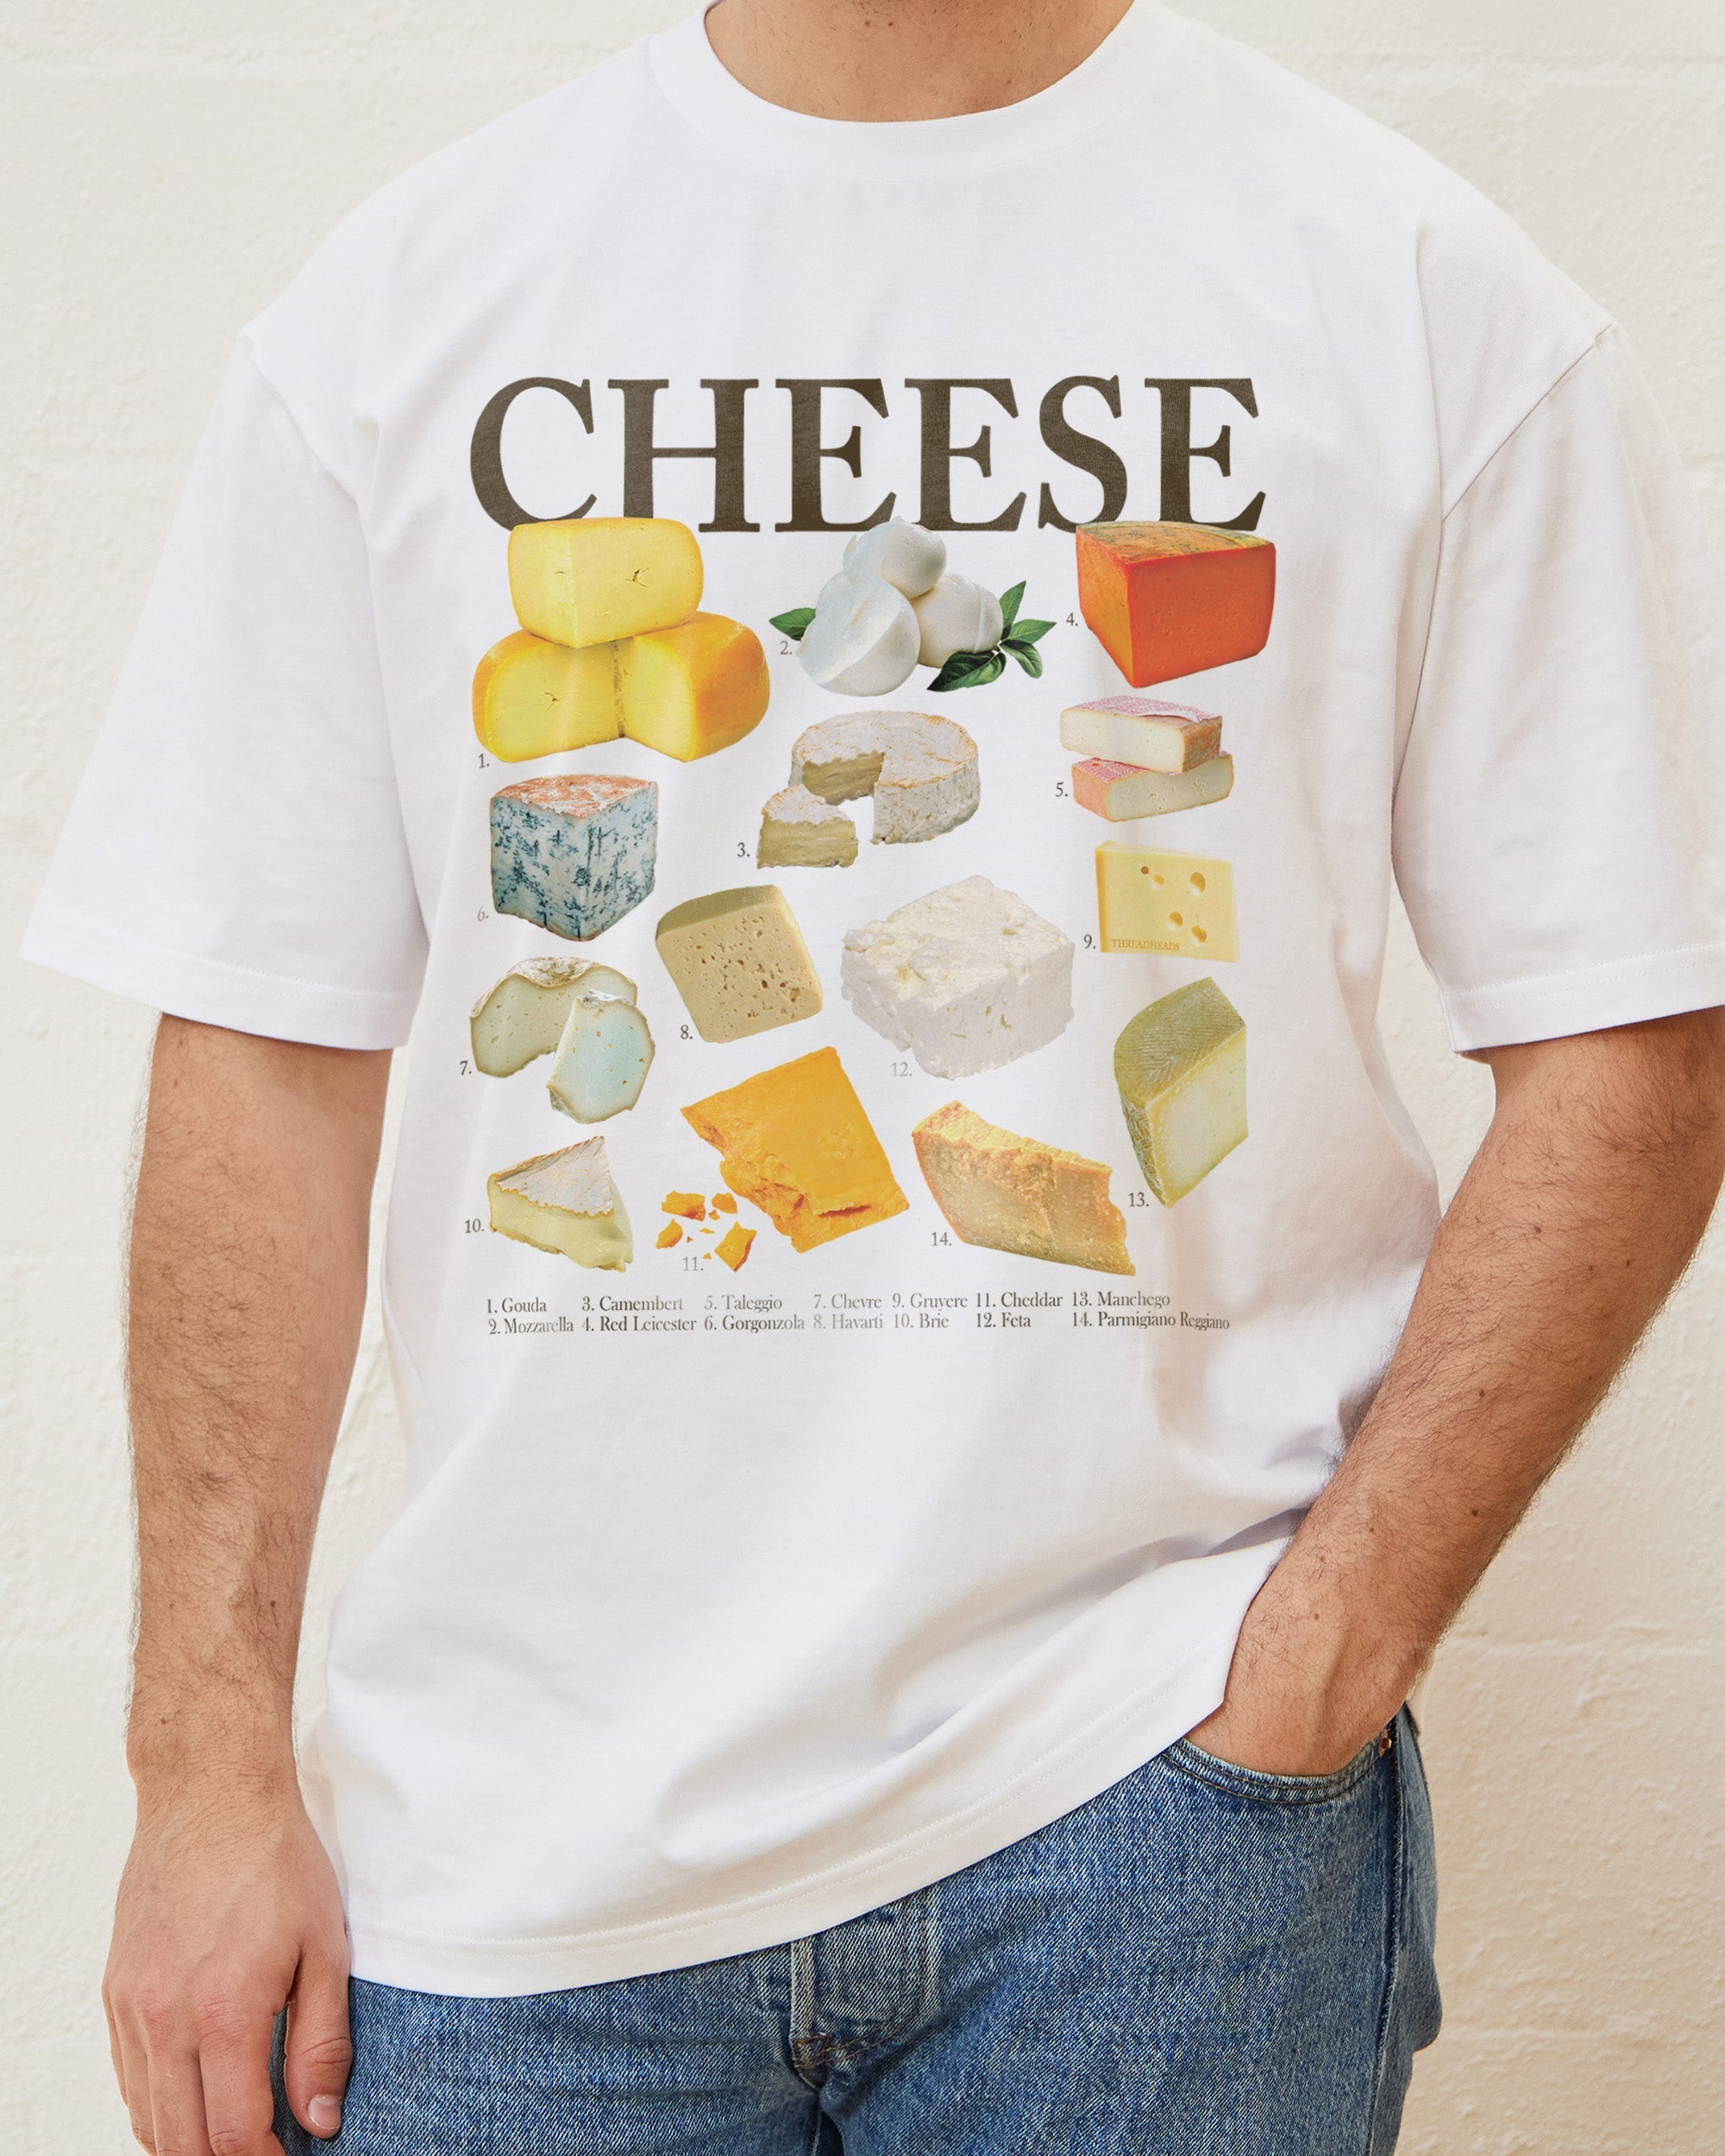design: (456, 370, 1283, 1350)
